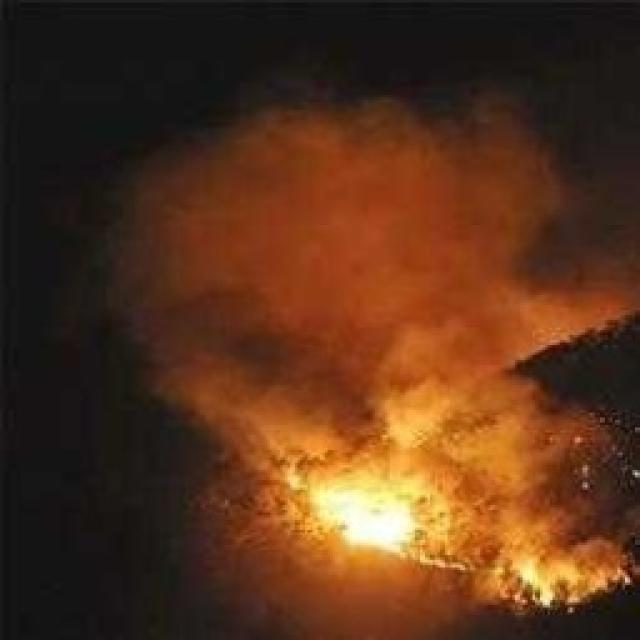Fire: (305, 465, 427, 547), (509, 549, 596, 589)
Smoke: (117, 102, 581, 384)
